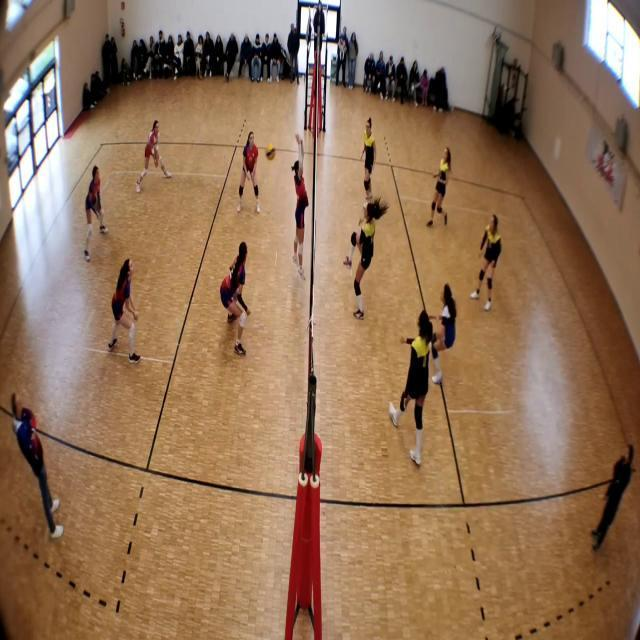volleyball: (264, 144, 276, 160)
